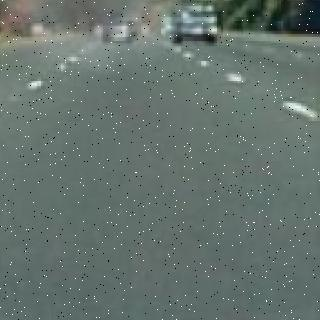smoke: (0, 0, 205, 54)
